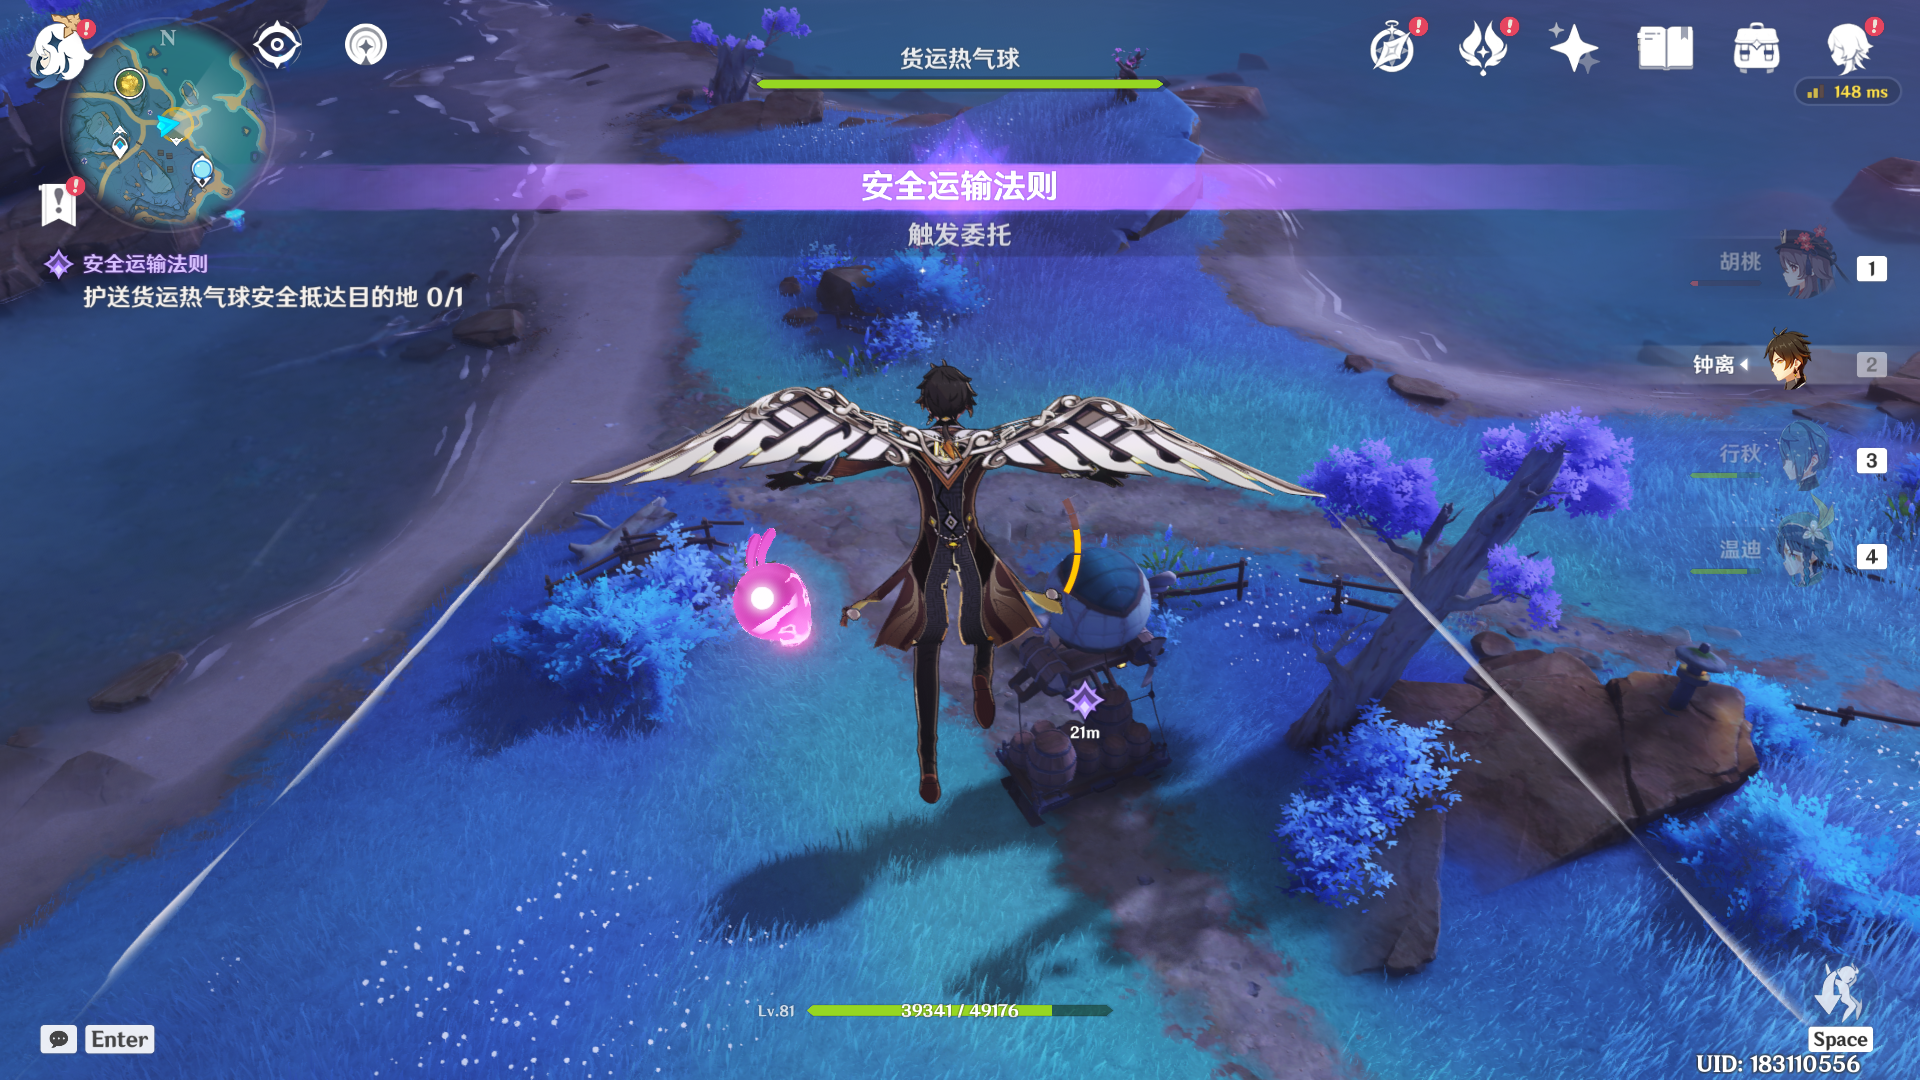character: (766, 345, 1147, 828)
